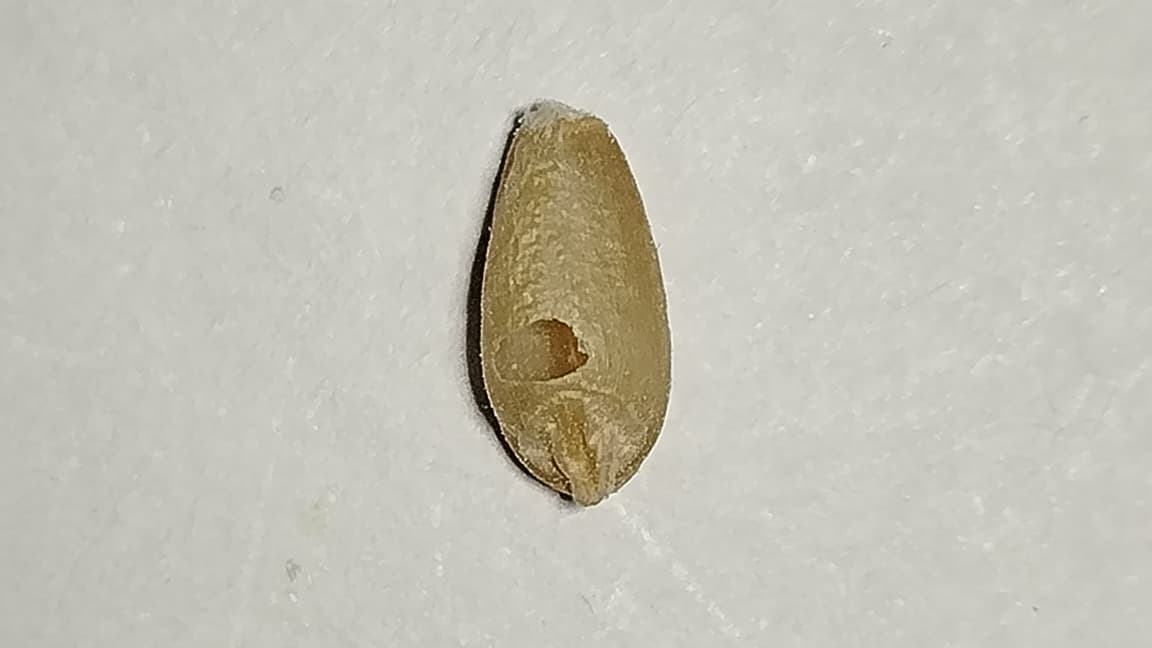damage: (470, 117, 670, 491)
insectdamage: (494, 386, 661, 503), (480, 300, 601, 390)
